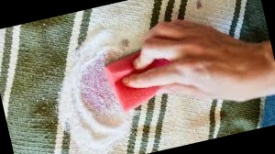wine: (82, 66, 122, 112)
